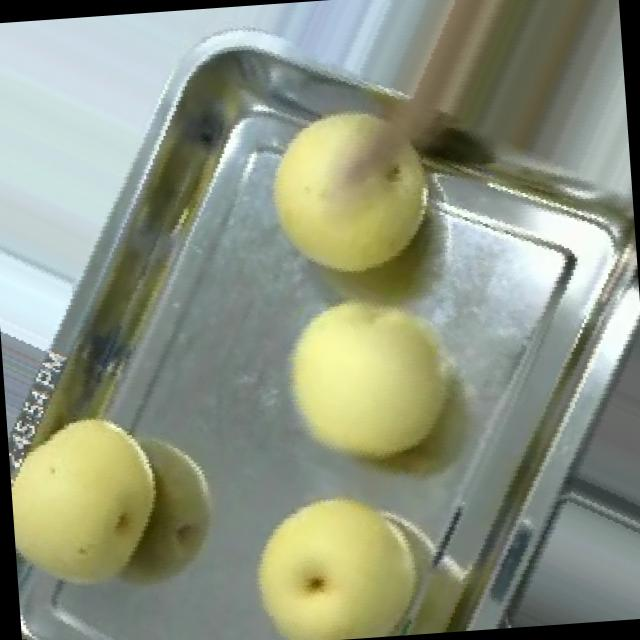Fruit: (361, 0, 631, 205), (244, 75, 464, 292), (265, 272, 482, 486), (222, 464, 451, 640), (5, 393, 180, 608)
